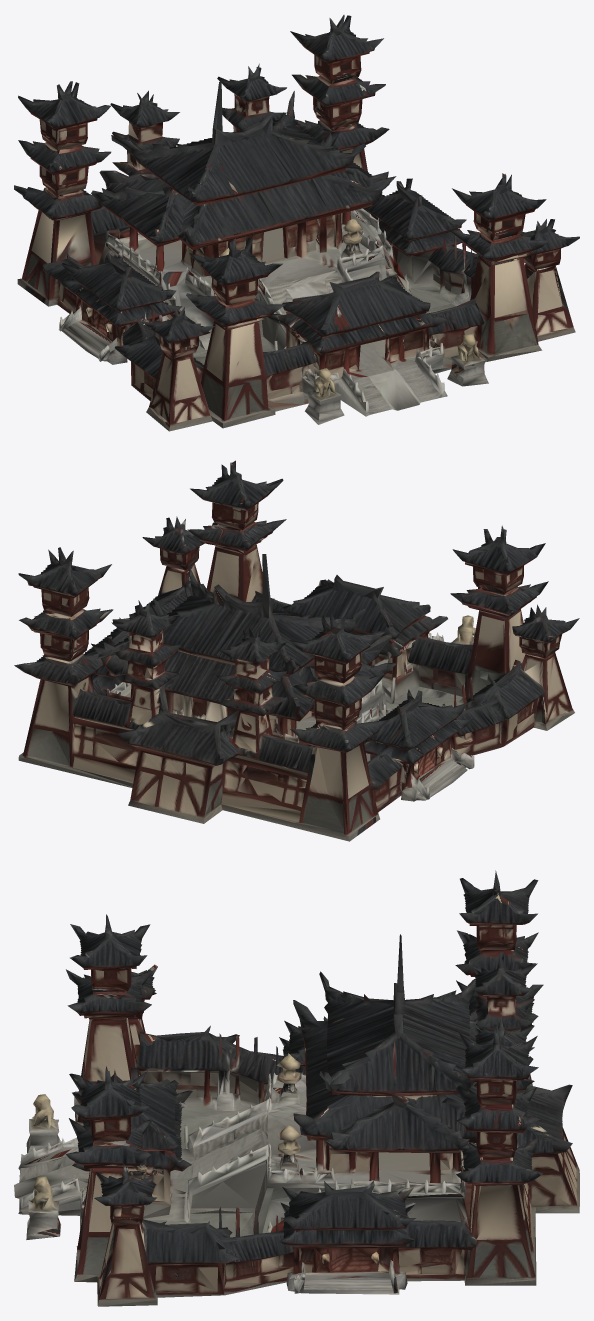
Rendered from guanfu_lod2.glb.
The picture shows the model from 3 angles, top to bottom: view 1: azimuth 30°, elevation 25°; view 2: azimuth 150°, elevation 25°; view 3: azimuth 270°, elevation 25°; orthographic projection. The views are drawn at different scales.
Visible parts, largest first — view 1: Mesh_0; view 2: Mesh_0; view 3: Mesh_0.
Part boxes in pixels (x1=…): Mesh_0: x1=14, y1=15, x2=579, y2=431; Mesh_0: x1=14, y1=460, x2=579, y2=841; Mesh_0: x1=14, y1=870, x2=579, y2=1306.
Bounding box in the file's own units: 1.86 × 0.9054 × 1.9.
Materials: 1 (1 with a texture image).
